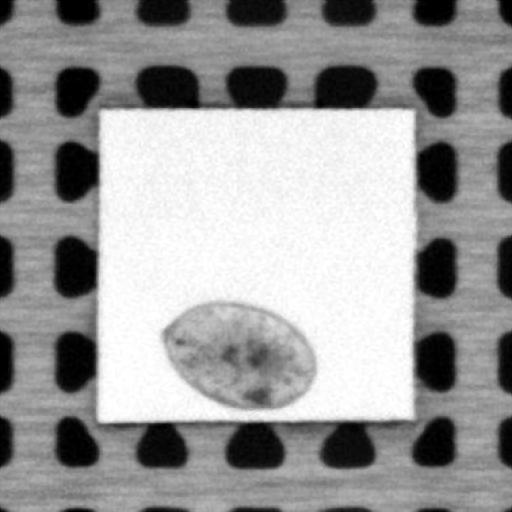DIE_INK: (158, 296, 317, 408)
